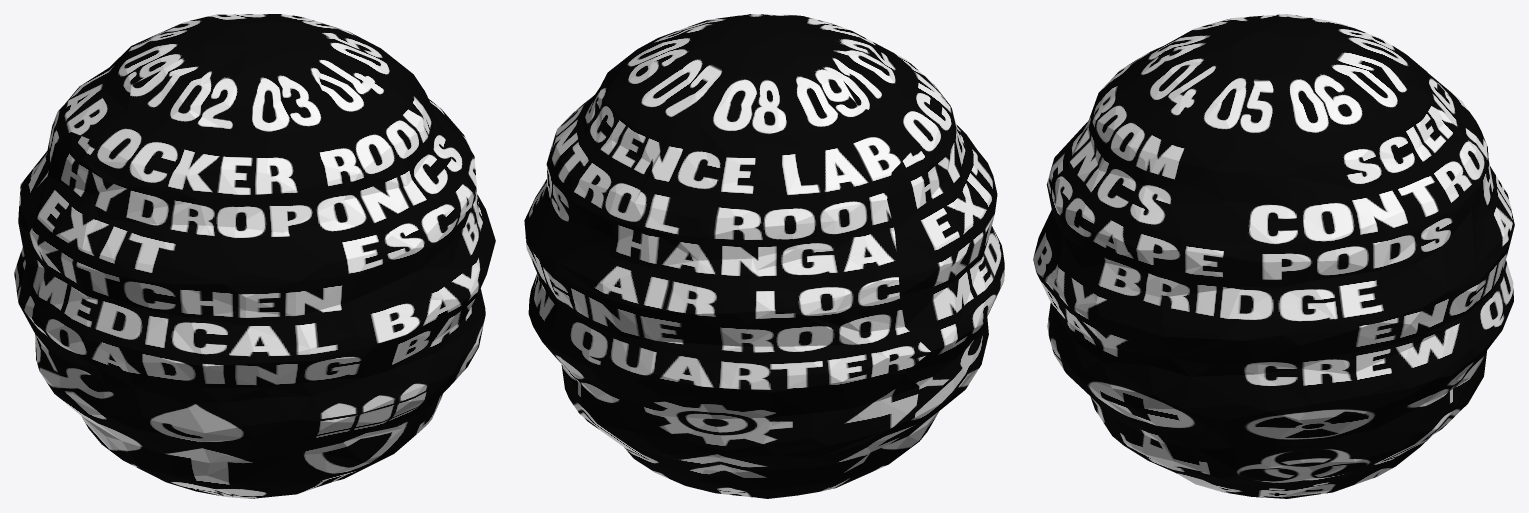
The model's file is space_SM_Env_Planet_03.gltf.
3 renders of one model, left to right at view 1: azimuth 30°, elevation 25°; view 2: azimuth 150°, elevation 25°; view 3: azimuth 270°, elevation 25°, orthographic.
Parts seen in each view (by area): view 1: SM_Env_Planet_03; view 2: SM_Env_Planet_03; view 3: SM_Env_Planet_03.
Boxes of the visible parts, <box> form: SM_Env_Planet_03: <box>14,14,495,498</box>; SM_Env_Planet_03: <box>524,14,1004,498</box>; SM_Env_Planet_03: <box>1033,14,1514,498</box>.
Bounding box in the file's own units: 437 × 440 × 437.
Materials: 1 (1 with a texture image).
